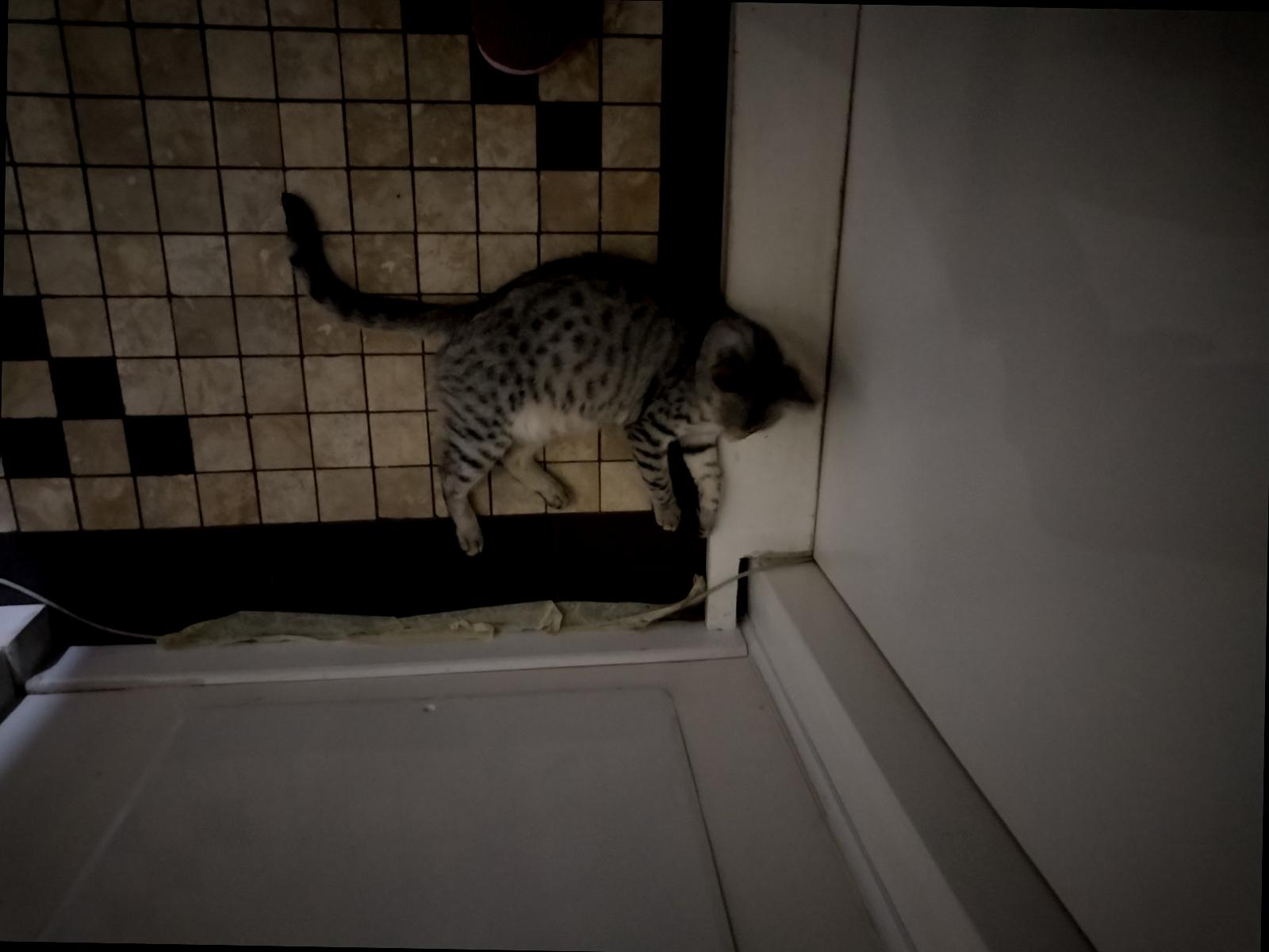macka: (273, 190, 822, 563)
